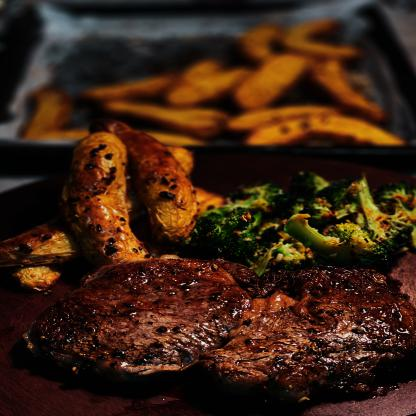Carne: (9, 252, 257, 393), (203, 263, 415, 406)
